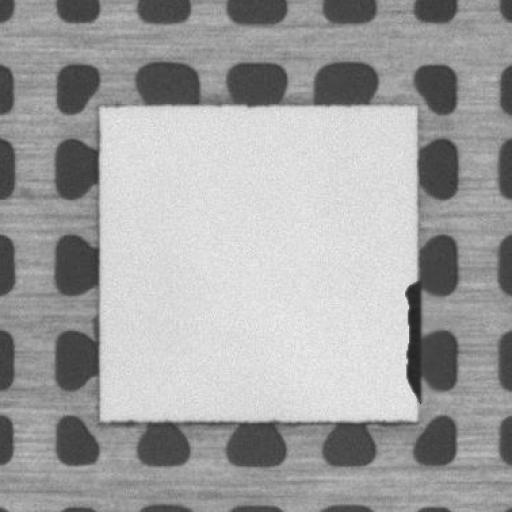DIE_BROKEN: (400, 274, 422, 396)
